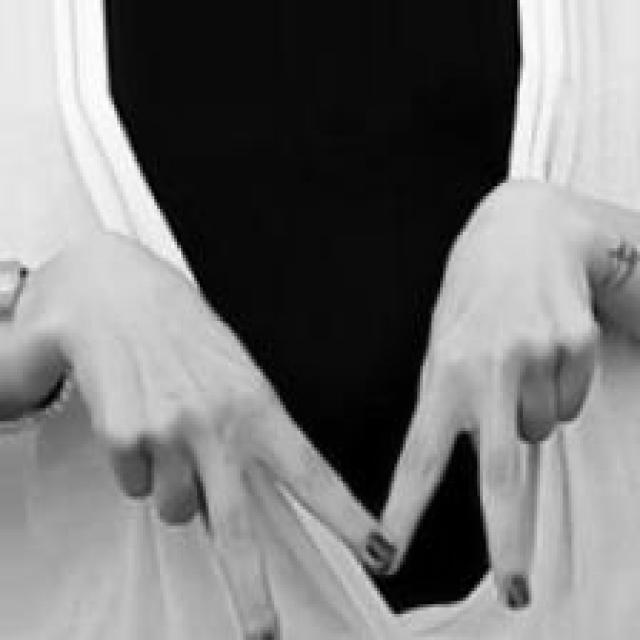M: (66, 229, 598, 640)
